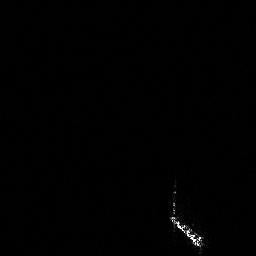ship: (166, 197, 209, 252)
